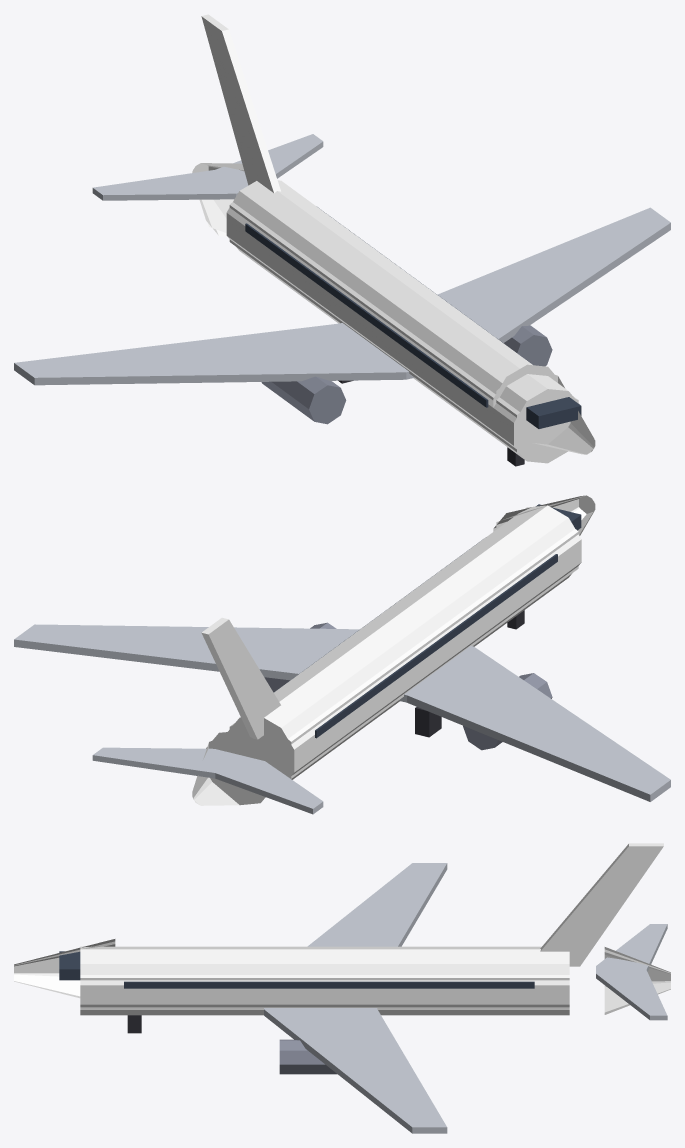
The model's file is aircraft.airliner.glb.
3 views of the same model, one above another, from view 1: azimuth 30°, elevation 25°; view 2: azimuth 150°, elevation 25°; view 3: azimuth 270°, elevation 25° (orthographic). The views are drawn at different scales.
Parts seen in each view (by area): view 1: near, far; view 2: near, far; view 3: near, far.
Part boxes in pixels (x1=…): near: x1=14, y1=14, x2=670, y2=466; far: x1=193, y1=163, x2=594, y2=462; near: x1=14, y1=495, x2=670, y2=814; far: x1=193, y1=495, x2=594, y2=805; near: x1=14, y1=843, x2=670, y2=1133; far: x1=14, y1=941, x2=670, y2=1012.
Bounding box in the file's own units: 35.8 × 11.8 × 37.6.
